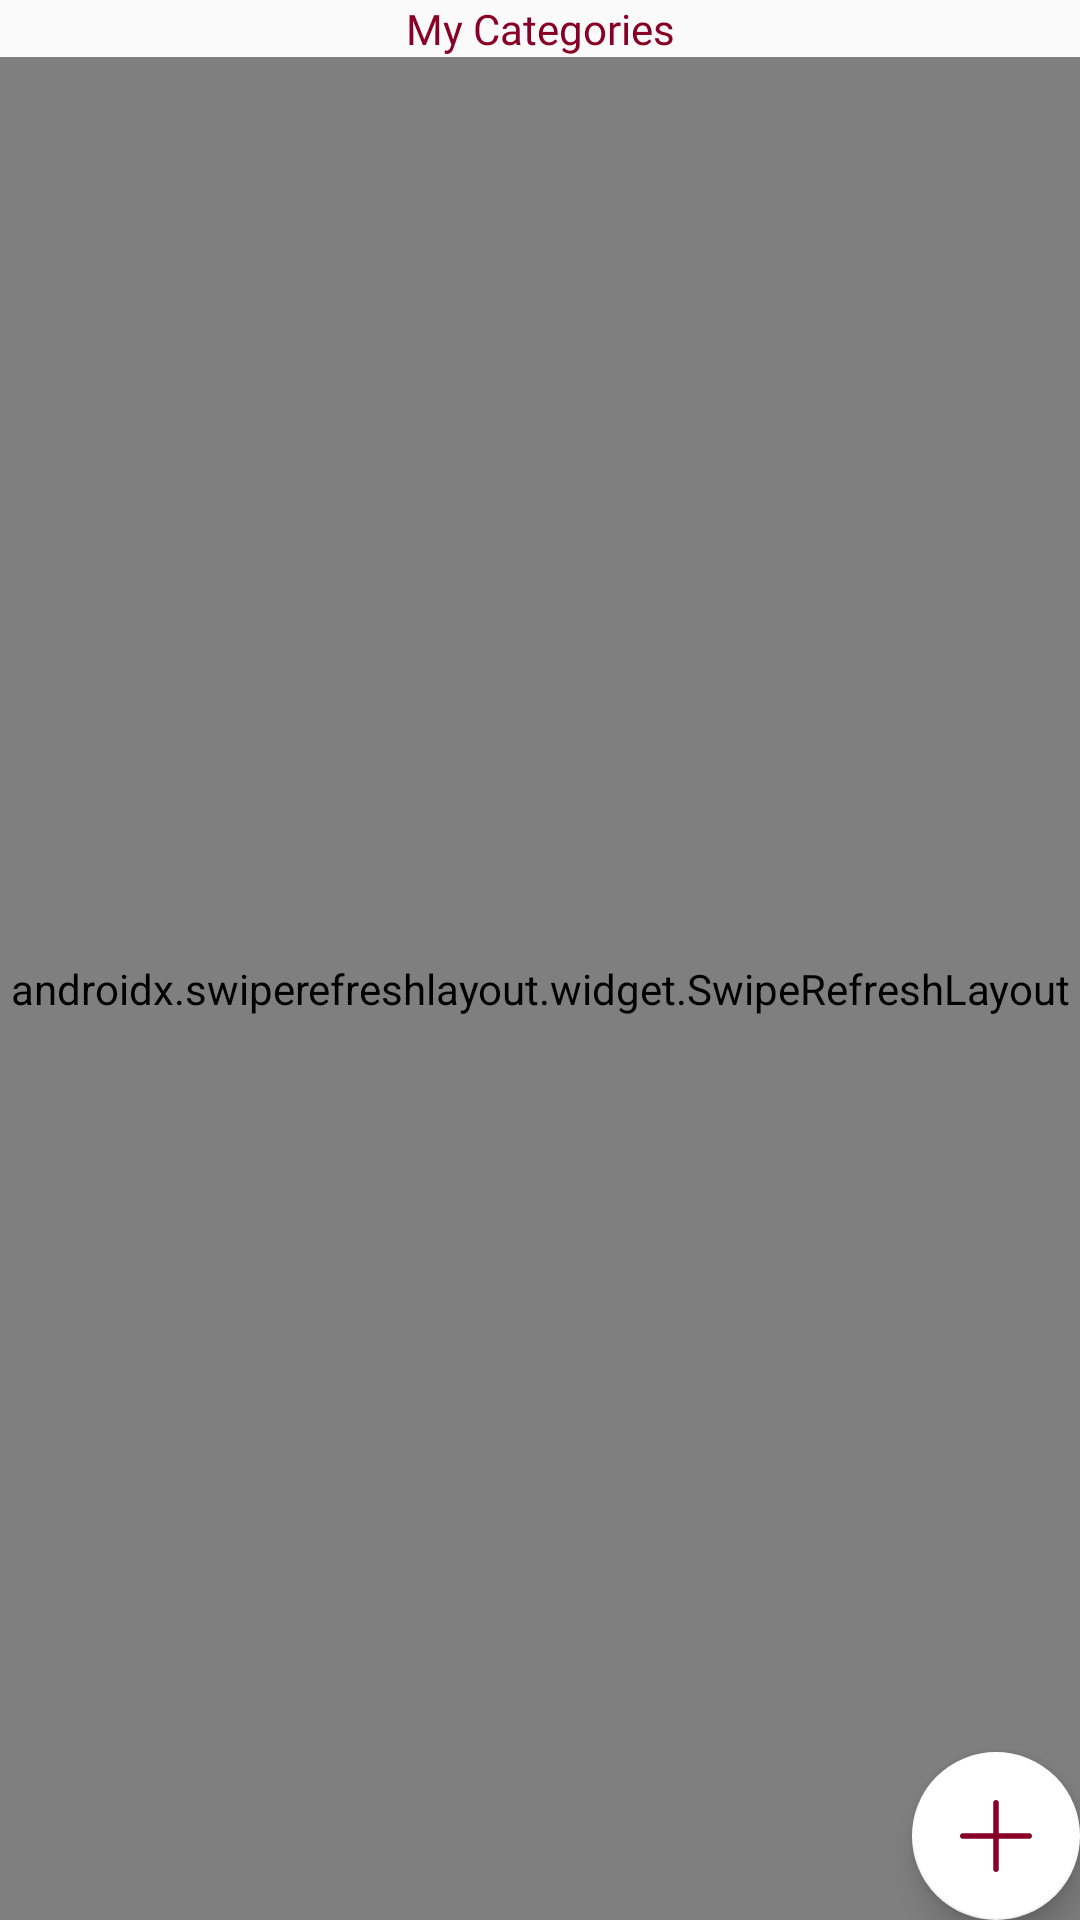

Where to tap for icons on this 1080 × 1920 app screen, as (x=x, y=y):
plus: (x=996, y=1836)
